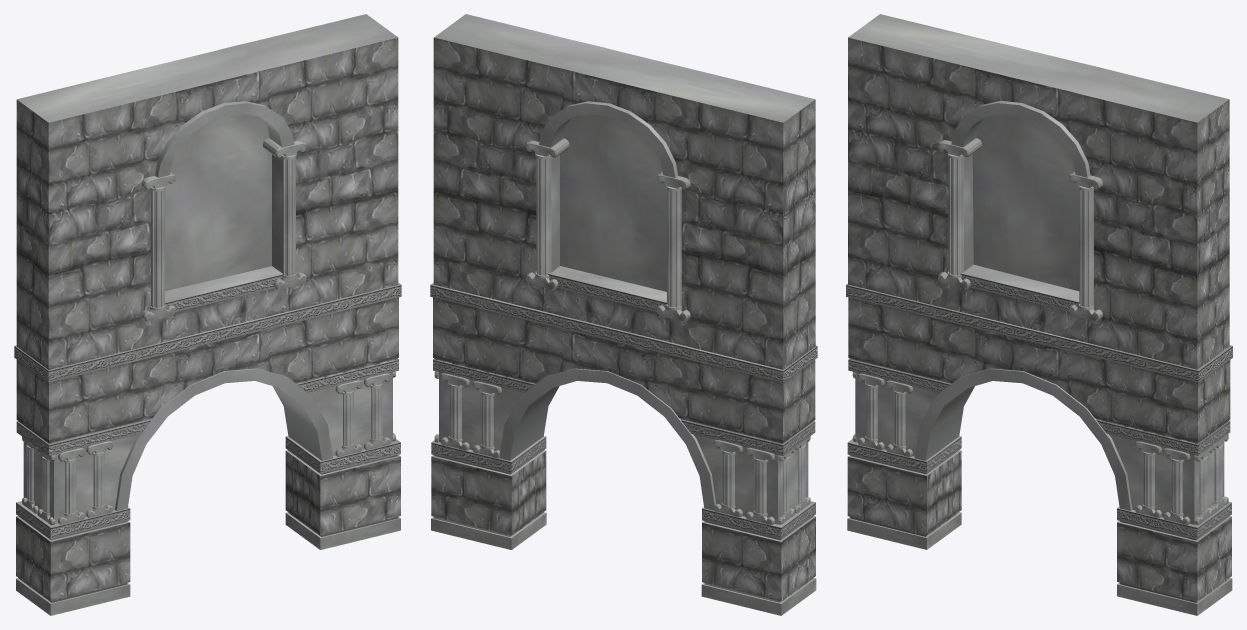
The model's file is stone pillar.fbx.
3 views of the same model, side by side, from view 1: azimuth 30°, elevation 25°; view 2: azimuth 150°, elevation 25°; view 3: azimuth 330°, elevation 25° (orthographic).
Parts seen in each view (by area): view 1: polySurface523, polySurface522; view 2: polySurface523, polySurface522; view 3: polySurface523, polySurface522.
Boxes of the visible parts, left/top/right/bottom form: polySurface523: left=16, top=14, right=398, bottom=369; polySurface522: left=14, top=283, right=401, bottom=615; polySurface523: left=433, top=14, right=815, bottom=369; polySurface522: left=430, top=283, right=817, bottom=615; polySurface523: left=848, top=14, right=1229, bottom=369; polySurface522: left=846, top=284, right=1232, bottom=615.
Size of the model in its own units: 668 by 891 by 134.
1 material, 1 textured.
